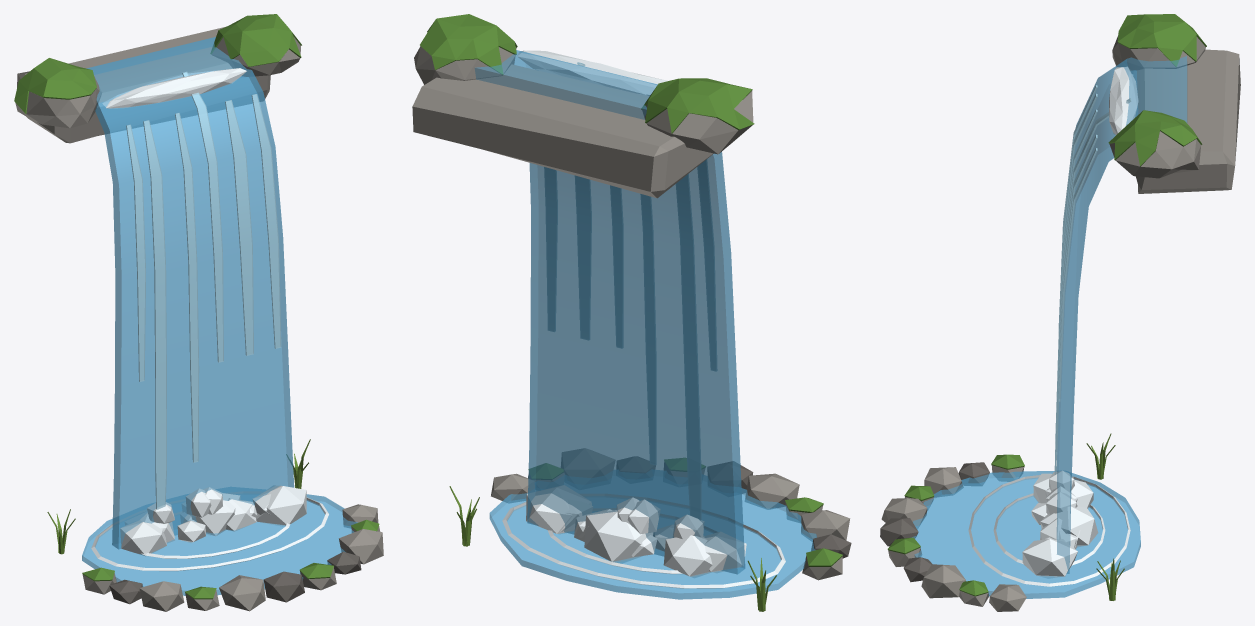
File: waterfall.glb
3 views of the same model, side by side, from view 1: azimuth 30°, elevation 25°; view 2: azimuth 150°, elevation 25°; view 3: azimuth 270°, elevation 25° (orthographic). The views are drawn at different scales.
Visible parts, largest first — view 1: Waterfall_Water, Waterfall_Streaks, Waterfall_Stone, Waterfall_Foam, Waterfall_Moss, Waterfall_StoneDark, Waterfall_Reeds; view 2: Waterfall_Water, Waterfall_Stone, Waterfall_Foam, Waterfall_Streaks, Waterfall_Moss, Waterfall_StoneDark, Waterfall_Reeds; view 3: Waterfall_Water, Waterfall_Stone, Waterfall_Foam, Waterfall_Moss, Waterfall_Streaks, Waterfall_StoneDark, Waterfall_Reeds.
Boxes of the visible parts, x1,y1,x2,y2 form: Waterfall_Water: (82,37,357,595); Waterfall_Streaks: (126,71,281,522); Waterfall_Stone: (15,27,383,611); Waterfall_Foam: (91,68,328,571); Waterfall_Moss: (14,14,379,599); Waterfall_StoneDark: (109,551,361,604); Waterfall_Reeds: (47,439,310,554); Waterfall_Water: (474,50,816,599); Waterfall_Stone: (412,46,850,580); Waterfall_Foam: (502,50,785,588); Waterfall_Streaks: (544,62,717,519); Waterfall_Moss: (420,14,842,566); Waterfall_StoneDark: (616,456,851,558); Waterfall_Reeds: (449,486,776,611); Waterfall_Water: (911,56,1187,598); Waterfall_Stone: (881,35,1240,611); Waterfall_Foam: (968,66,1138,586); Waterfall_Moss: (887,14,1206,596); Waterfall_Streaks: (1054,85,1131,474); Waterfall_StoneDark: (880,462,989,582); Waterfall_Reeds: (1086,433,1124,600).
Size of the model in its own units: 11.58 by 17.5 by 12.05.
